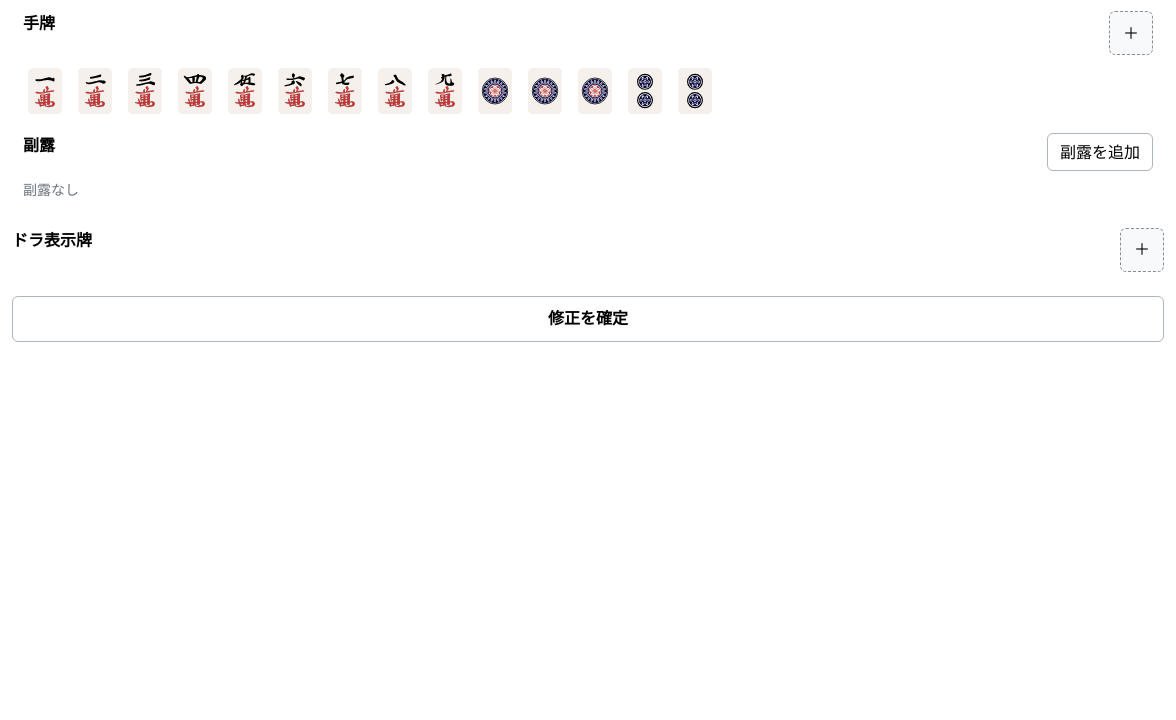
Test: TileCorrectionEditor › keeps incomplete melds visibly editable and blocks commit with targeted text
The image size is (1176, 720).
Click the button "副露を追加". click: x=1100, y=152
box: [1047,133,1153,171]
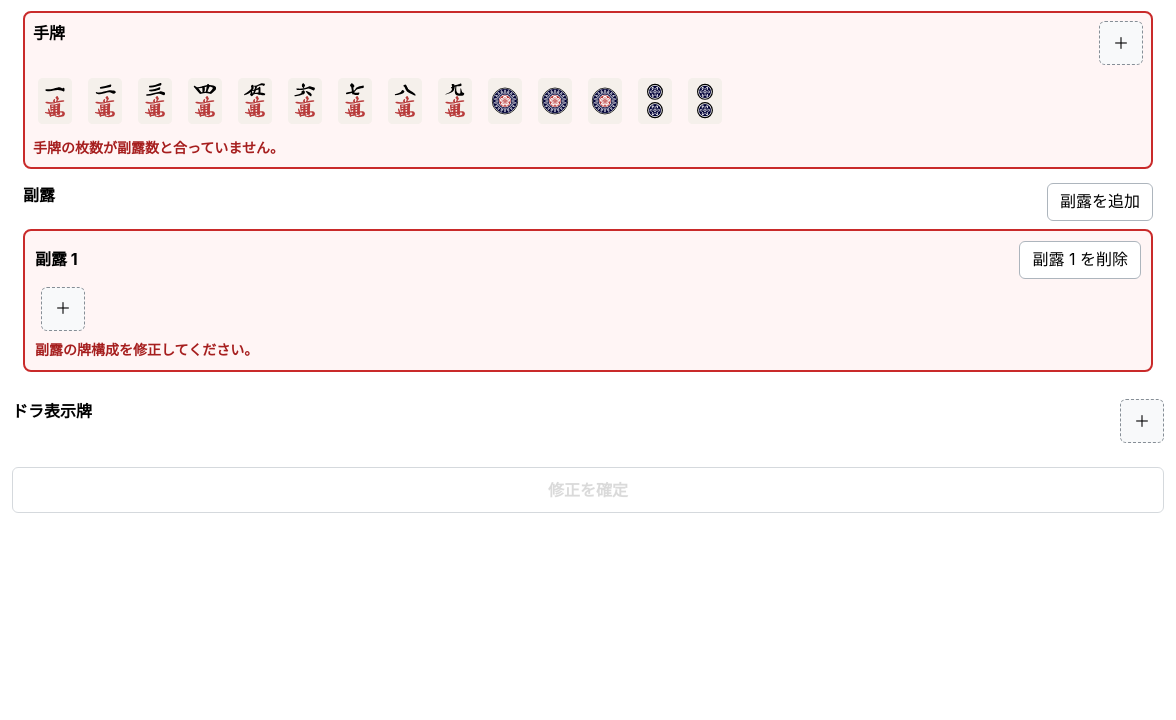
Result: the text "副露の牌構成を修正してください。" is shown at [35,341,258,358]
Result: the button named "副露 1 に牌を追加" is shown at [41,287,85,331]
Result: the button "修正を確定" is disabled at [12,467,1164,513]
